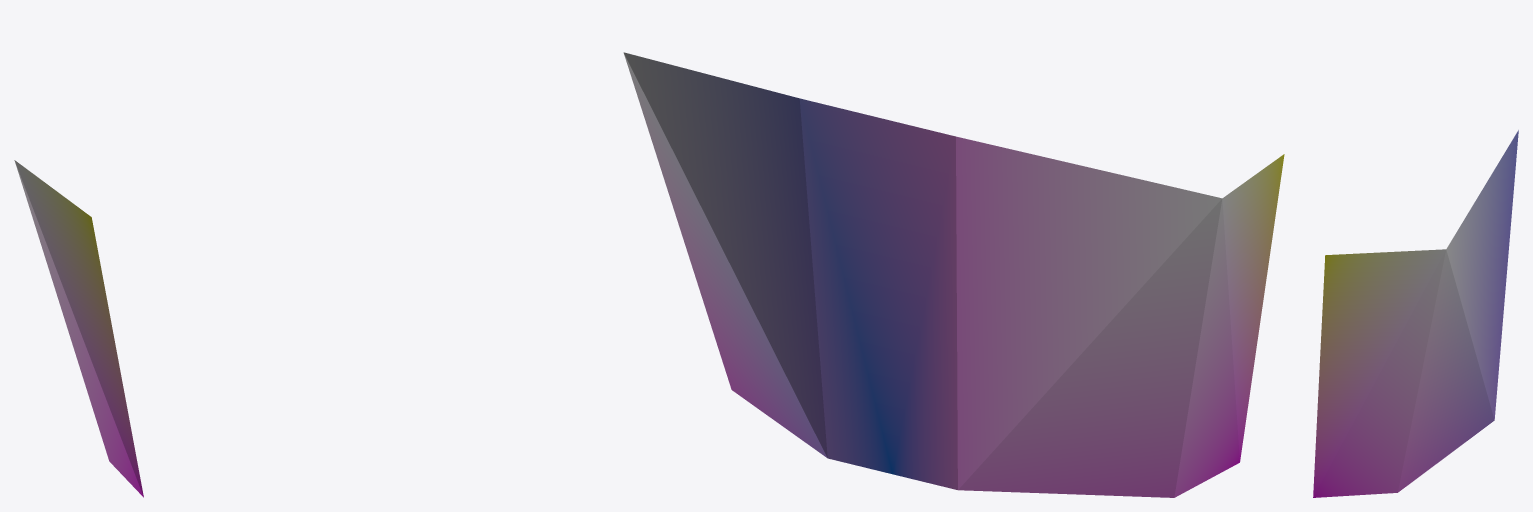
3 views of the same model, side by side, from view 1: azimuth 30°, elevation 25°; view 2: azimuth 150°, elevation 25°; view 3: azimuth 270°, elevation 25° (orthographic). The views are drawn at different scales.
Visible parts, largest first — view 1: model_1135; view 2: model_1135; view 3: model_1135.
Part boxes in pixels (left/top/right/bottom): model_1135: left=14, top=160, right=143, bottom=497; model_1135: left=623, top=52, right=1284, bottom=497; model_1135: left=1313, top=130, right=1518, bottom=497.
Size of the model in its own units: 46 by 28 by 17.
